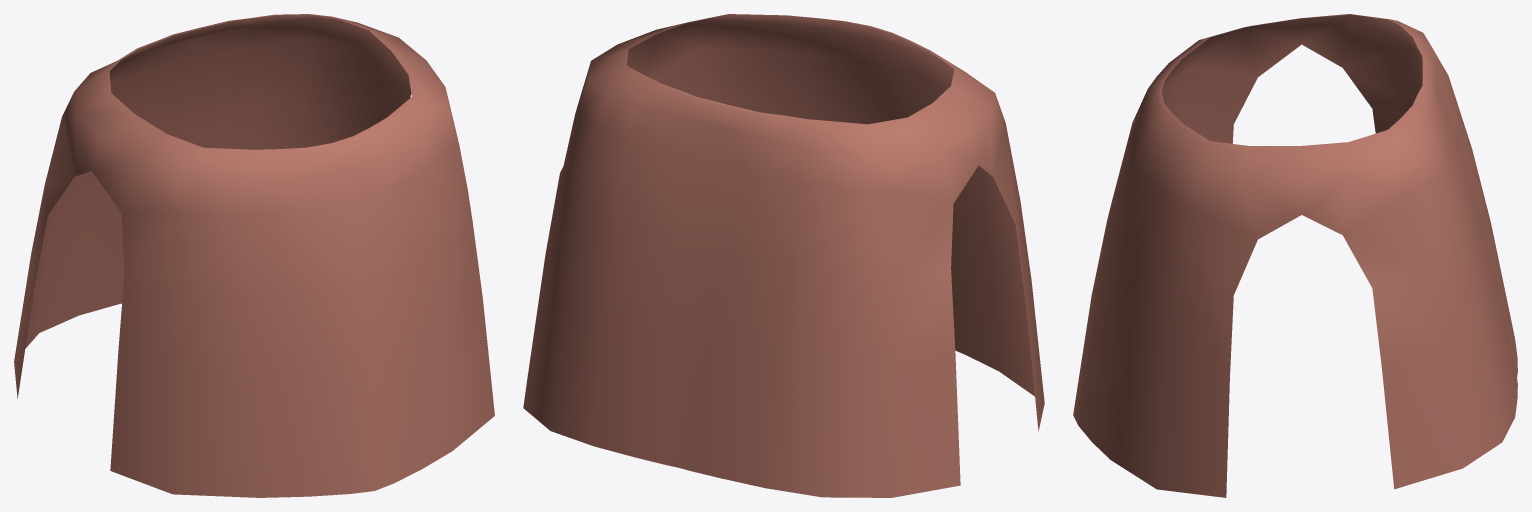
The model's file is Fabric.dae.
The picture shows the model from 3 angles, left to right: view 1: azimuth 30°, elevation 25°; view 2: azimuth 150°, elevation 25°; view 3: azimuth 270°, elevation 25°; orthographic projection. The views are drawn at different scales.
Parts seen in each view (by area): view 1: Cube_006; view 2: Cube_006; view 3: Cube_006.
Boxes of the visible parts, x1=… form: Cube_006: x1=14, y1=14, x2=494, y2=497; Cube_006: x1=523, y1=14, x2=1044, y2=497; Cube_006: x1=1073, y1=14, x2=1517, y2=497.
Bounding box in the file's own units: 0.4406 × 0.4162 × 0.3553.
